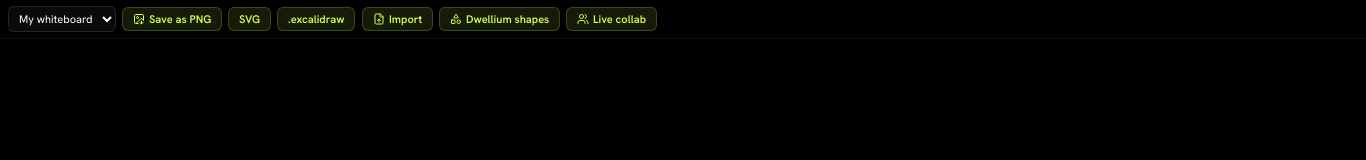
collab (vendored room client — env-gated states) › configured: offers Start session and Join with link (no session yet)
Click the button "Live collab": point(612, 19) [566,7,658,31]
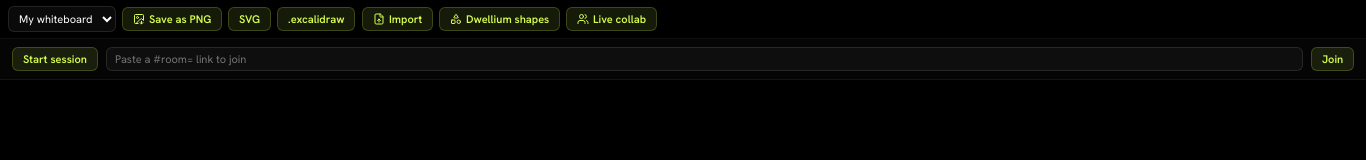
Expected: the button "Start session" is shown, [12,47,98,71]
Expected: the field named "Join with link" is shown, [106,47,1303,71]
Expected: the button "Join" is shown, [1311,47,1354,71]
